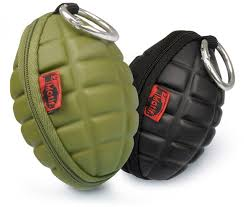e1: (10, 2, 137, 190), (129, 29, 234, 181)
